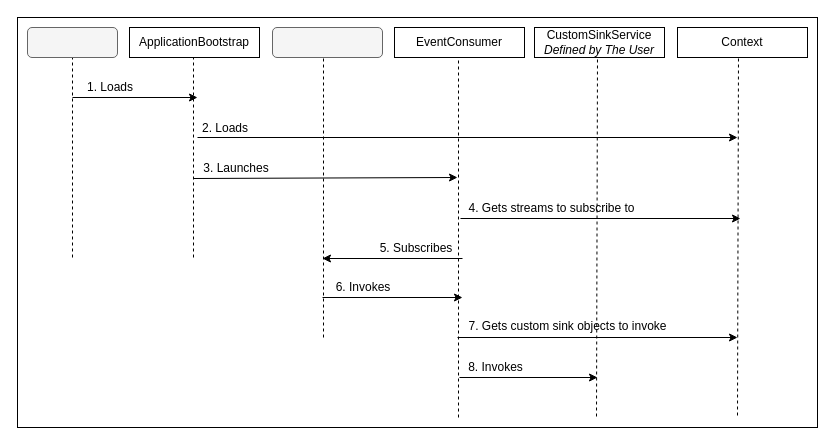
Image size: 835x445. Some labels were removed from this diagram. Here are the shapes that lost their labels. From the top down, the centre of each, then its label:
[72,42]: Container
[327,42]: Broker
